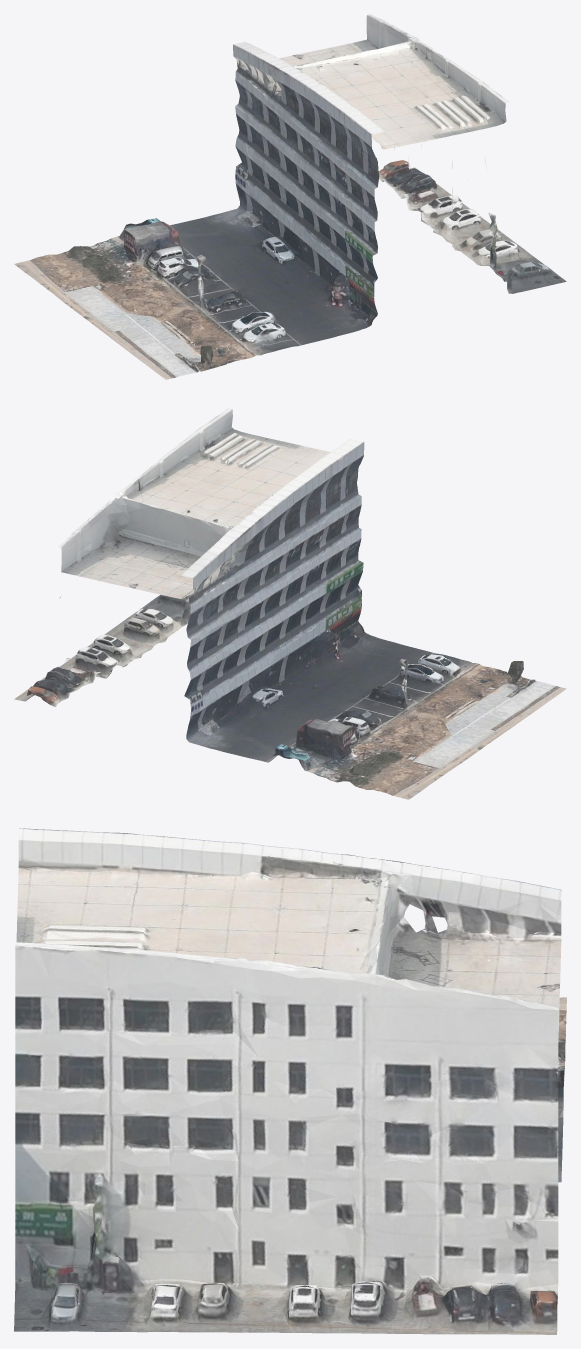
File: Tile_+004_+013_L20_0uuuu3.glb
The picture shows the model from 3 angles, top to bottom: view 1: azimuth 30°, elevation 25°; view 2: azimuth 150°, elevation 25°; view 3: azimuth 270°, elevation 25°; orthographic projection. The views are drawn at different scales.
Parts seen in each view (by area): view 1: rtc; view 2: rtc; view 3: rtc.
Boxes of the visible parts, x1,y1,x2,y2 form: rtc: [14, 14, 566, 379]; rtc: [14, 408, 566, 799]; rtc: [14, 828, 566, 1334].
Size of the model in its own units: 49.28 by 23.37 by 33.6.
4 materials, 4 textured.
